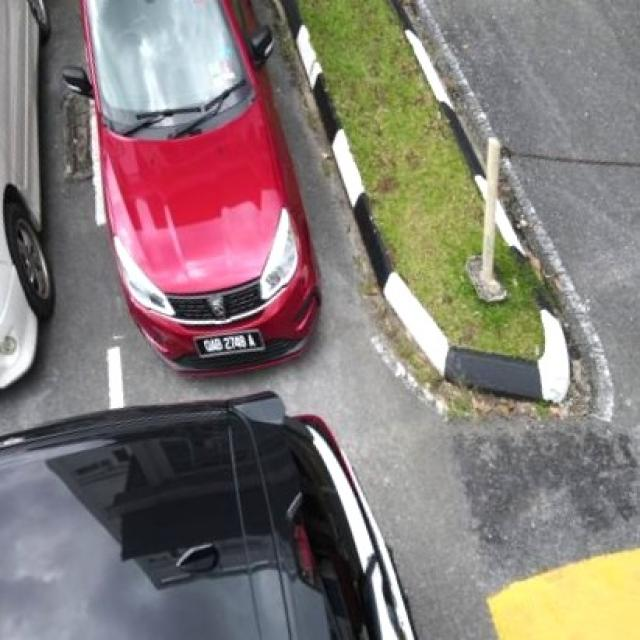Legalparking: (64, 0, 319, 371), (0, 0, 53, 388)
illegalparking: (0, 392, 413, 638)
